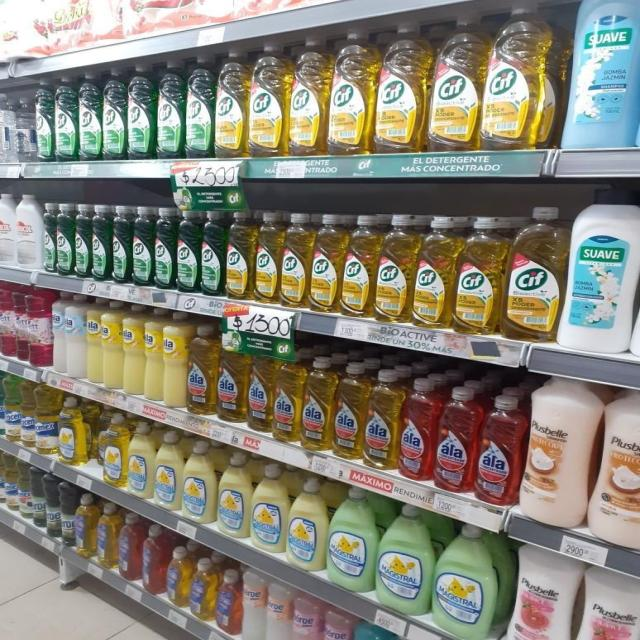ala_conc_amarillo: (364, 368, 399, 470), (301, 357, 333, 452), (334, 362, 364, 461), (188, 324, 216, 416), (217, 341, 247, 424), (273, 355, 301, 443), (248, 354, 272, 434)
ala_conc_rojo: (475, 393, 522, 506), (435, 384, 475, 493), (399, 377, 434, 482)
ala_crem_amarillo: (163, 311, 186, 409), (123, 304, 143, 396), (144, 306, 163, 402), (102, 300, 122, 390), (86, 295, 102, 385)
ala_crem_blanco: (66, 294, 86, 379)
cif_conc_bot_amarilla: (484, 3, 550, 151), (506, 206, 564, 340), (430, 11, 481, 153), (376, 20, 427, 153), (329, 28, 375, 156), (454, 215, 502, 334), (289, 35, 328, 156), (248, 41, 288, 158), (414, 214, 453, 328), (376, 213, 413, 324), (215, 46, 247, 158), (342, 214, 374, 318), (311, 212, 341, 312), (282, 212, 310, 308), (226, 210, 254, 300), (255, 212, 281, 304)
cif_conc_botella_verde: (186, 53, 213, 159), (157, 57, 184, 160), (128, 62, 155, 160), (102, 67, 126, 161), (78, 70, 102, 161), (200, 209, 224, 297), (176, 208, 199, 293), (55, 74, 77, 162), (154, 206, 175, 290), (132, 205, 153, 287), (35, 77, 54, 162), (112, 204, 131, 284), (92, 204, 110, 282), (56, 202, 74, 276), (74, 203, 91, 279), (42, 202, 56, 274)
heroe: (241, 568, 265, 640), (265, 581, 291, 640), (292, 593, 322, 640), (323, 607, 352, 640), (354, 621, 396, 640)
magistral_con_amarillo: (58, 396, 88, 466), (100, 413, 127, 487)
magistral_con_crema: (434, 522, 497, 638), (377, 504, 431, 614), (328, 485, 374, 593), (287, 476, 325, 571), (252, 462, 286, 552), (182, 439, 215, 524), (217, 451, 249, 538), (154, 430, 181, 511), (128, 420, 152, 500)
